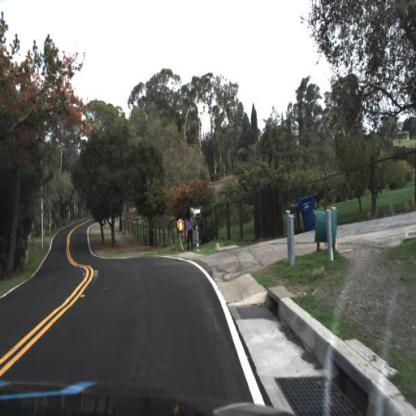pedestrian: (177, 212, 189, 256), (185, 211, 195, 252), (178, 216, 187, 256), (186, 212, 195, 250)
